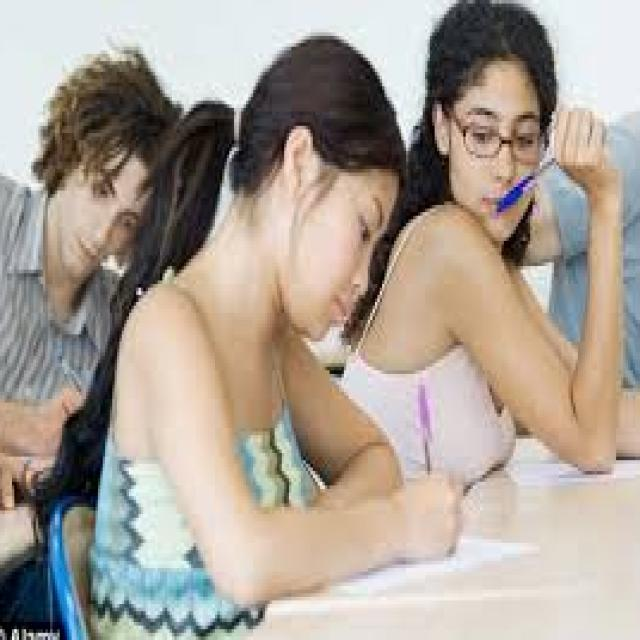cheating: (406, 0, 640, 514)
good: (127, 26, 480, 620)
